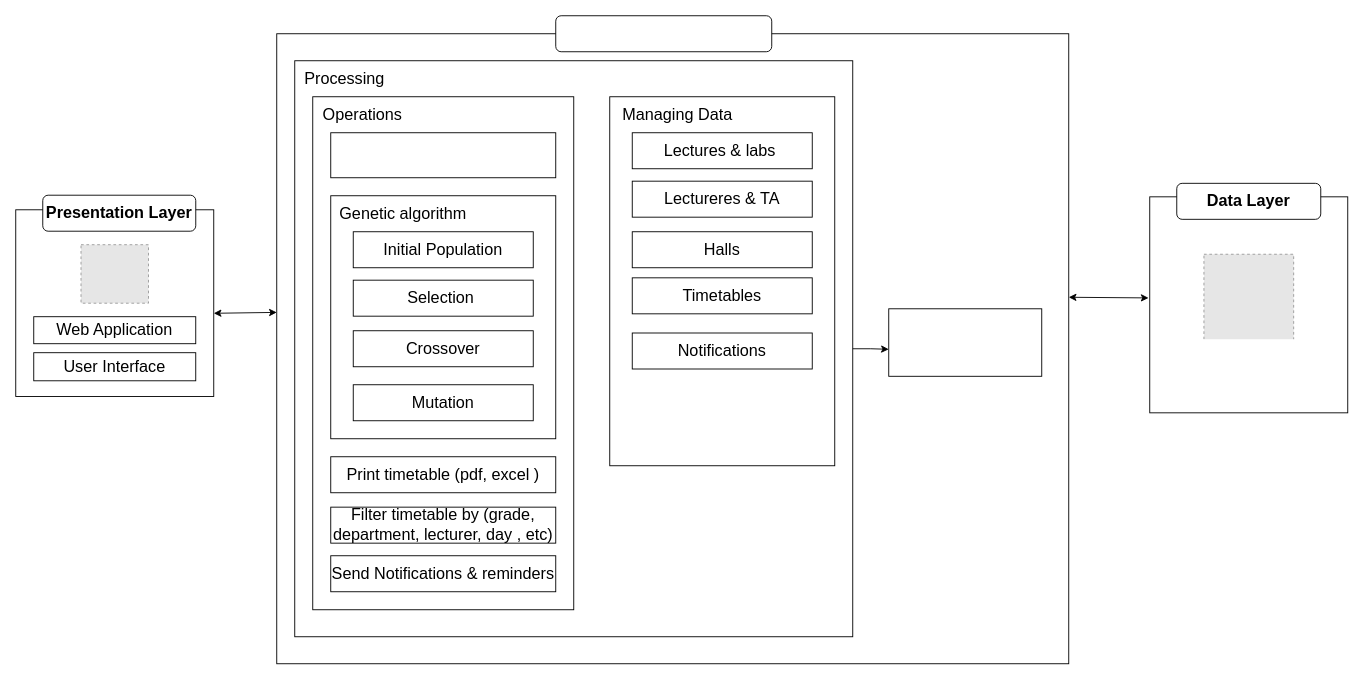
The diagram is 1364 pixels wide and 680 high, and some of its shapes have lost their labels. Grey dashed boxes stand in for pictures. The centre of each missing label's shape, as x and y in pixels:
"Application Layer" belongs at point (663, 33).
"Assign data (lectures , sections, halls, etc)" belongs at point (443, 155).
"Database" belongs at point (1248, 366).
"Generate timetable" belongs at point (965, 342).
